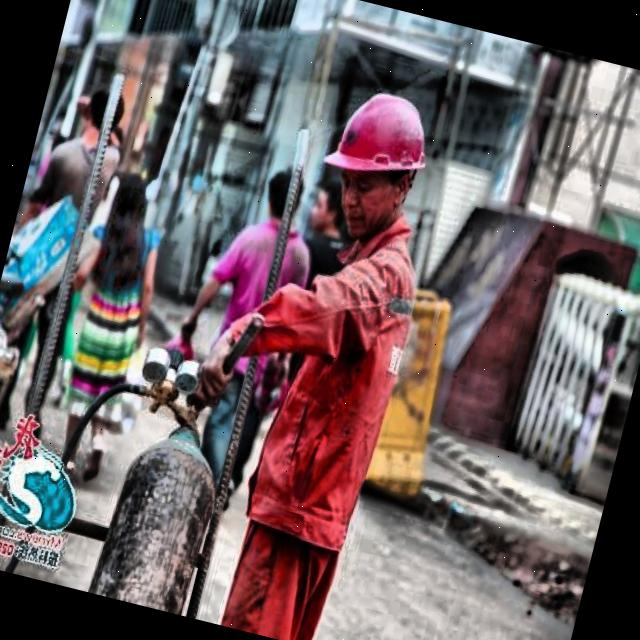helmet: (291, 67, 451, 276)
